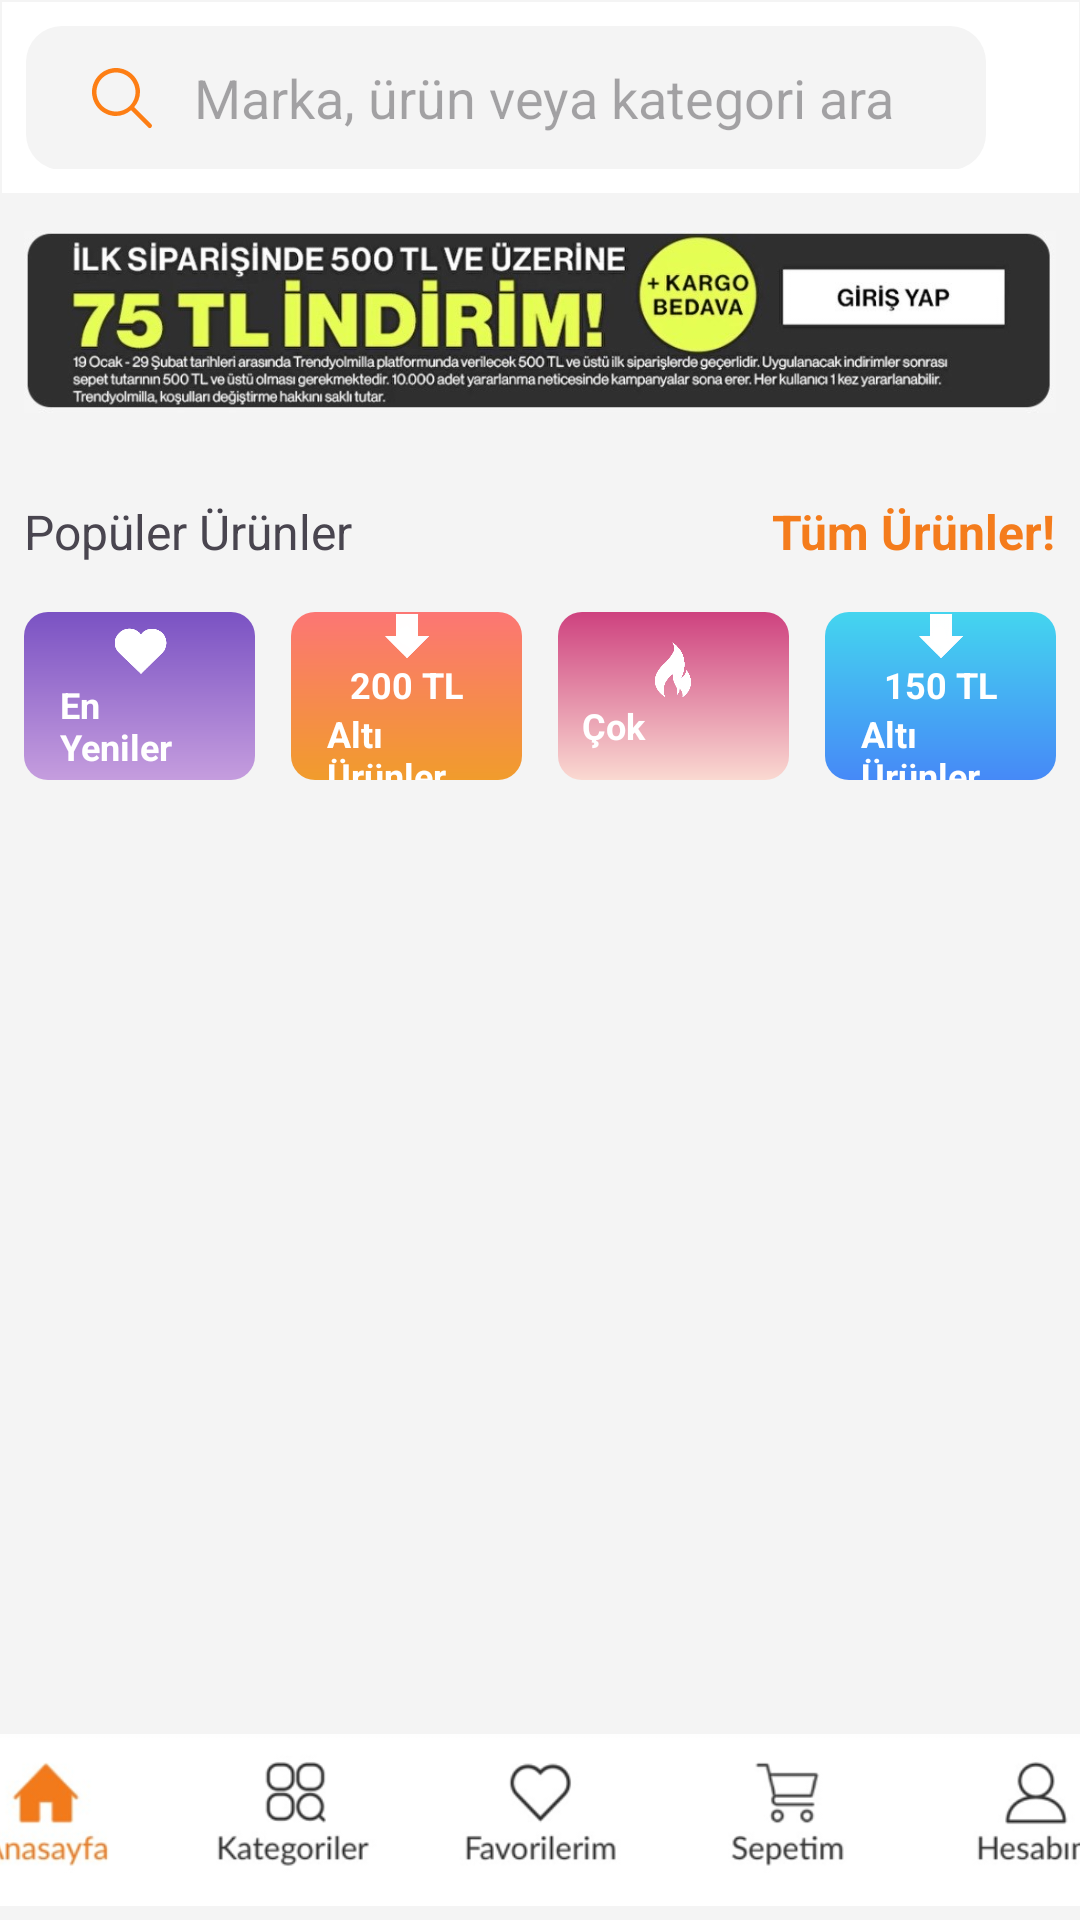

Screen size 1080 × 1920. Icon name, then its center in pixels as (x,y):
arrow: (406,636), (941,636)
fire: (673,671)
heart: (139,654)
